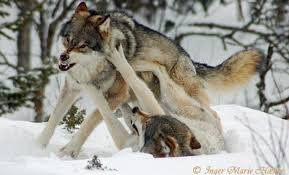wolf: (31, 10, 257, 117), (99, 82, 243, 163)
